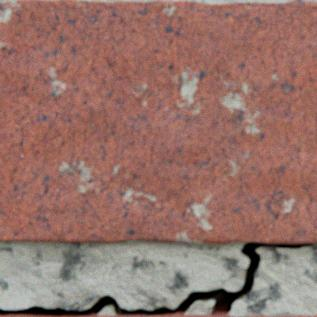brick: (0, 0, 316, 243), (78, 314, 316, 316), (0, 314, 39, 316)
crack: (0, 241, 316, 316)
